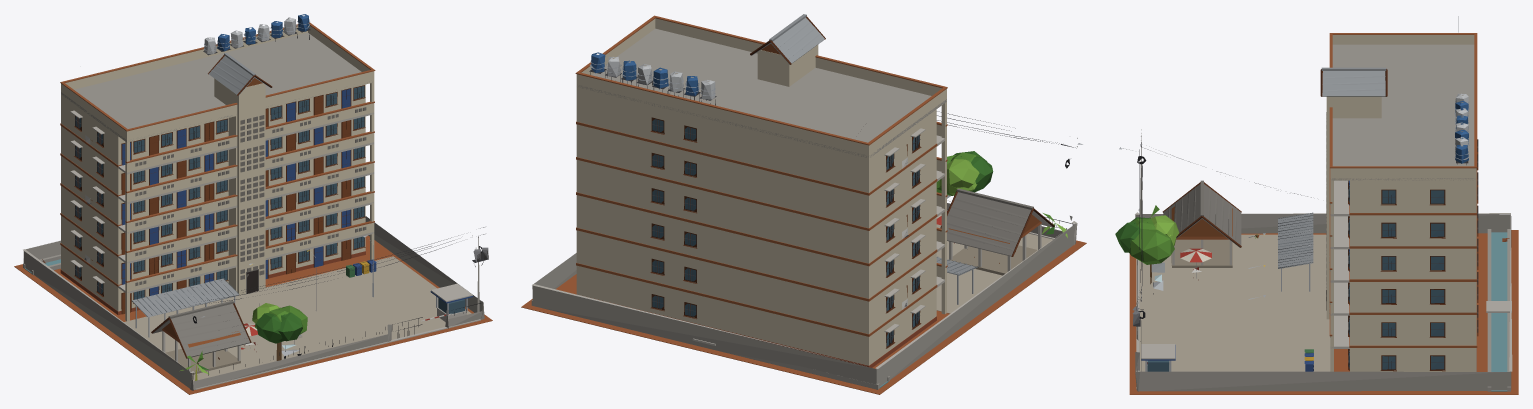
File: home_5.glb
3 views of the same model, side by side, from view 1: azimuth 30°, elevation 25°; view 2: azimuth 150°, elevation 25°; view 3: azimuth 270°, elevation 25° (orthographic). The views are drawn at different scales.
Visible parts, largest first — view 1: body, windows; view 2: body, windows; view 3: body, windows.
Boxes of the visible parts, box(x1,y1,x2,y2) form: body: box(14, 14, 492, 394); windows: box(75, 86, 465, 314); body: box(521, 14, 1086, 394); windows: box(652, 119, 919, 346); body: box(1115, 16, 1518, 394); windows: box(1147, 185, 1444, 371).
Bounding box in the file's own units: 31.9 × 22.4 × 33.08.
